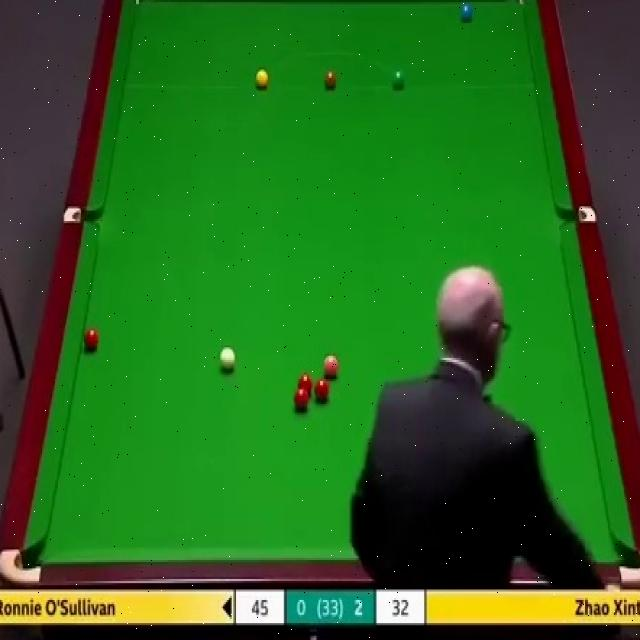blue-ball: (459, 3, 474, 24)
brown-ball: (323, 72, 338, 89)
green-ball: (391, 68, 406, 92)
pink-ball: (322, 354, 339, 379)
red-ball: (315, 378, 330, 406), (293, 387, 310, 411), (297, 373, 313, 396), (83, 328, 100, 349)
white-ball: (216, 342, 235, 371)
yellow-ball: (254, 69, 270, 90)
